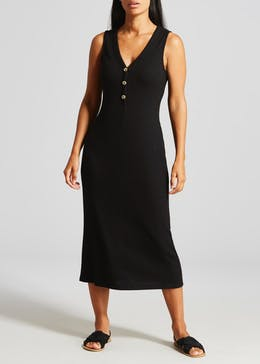S_dress: (72, 23, 192, 296)
